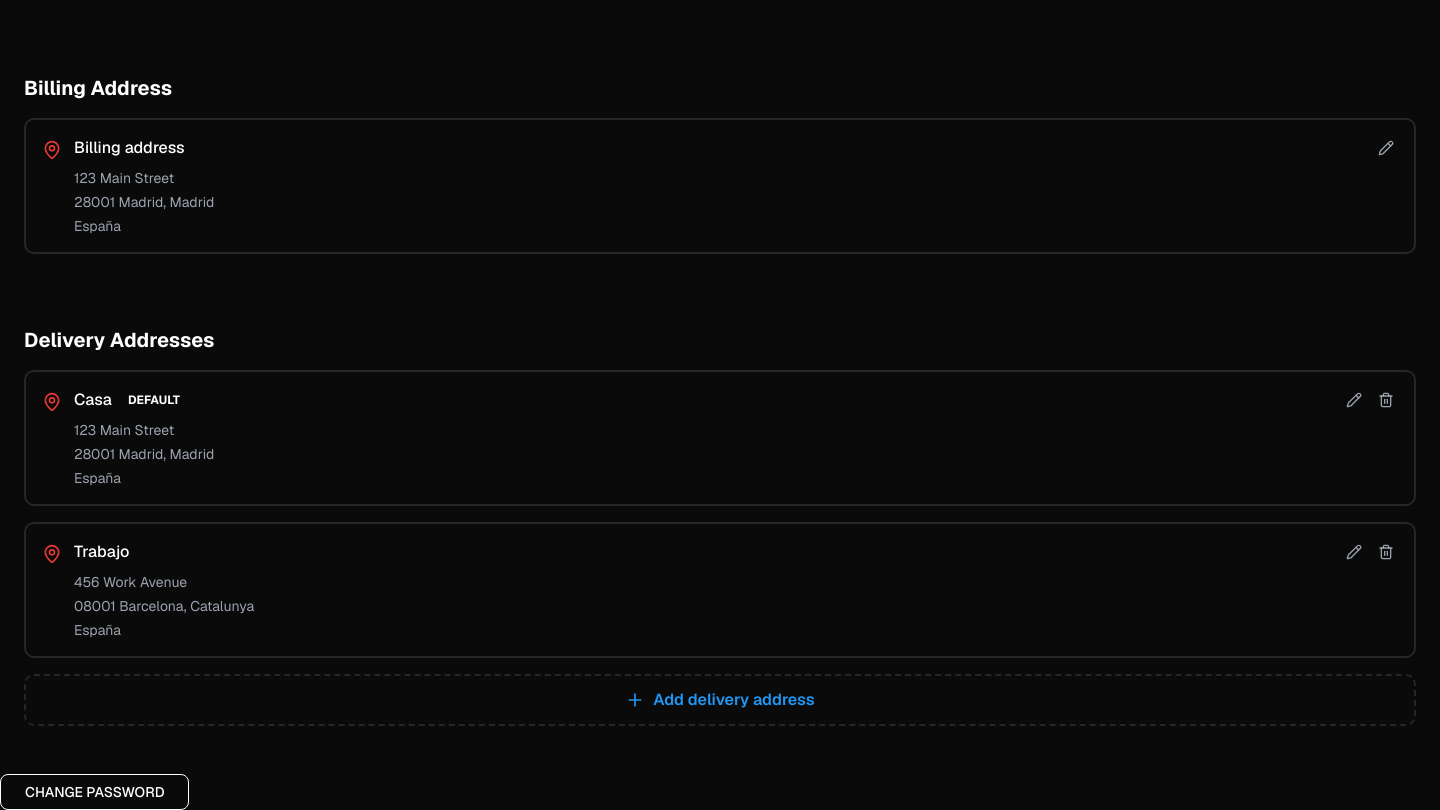
Scenario: ProfileContent › modal interactions › opens delivery address modal when add button is clicked
(page scrolled)
Expected: the text "Casa" is shown, [74, 388, 112, 412]
Click the button "Add delivery address" at (720, 700), box [24, 674, 1416, 726]
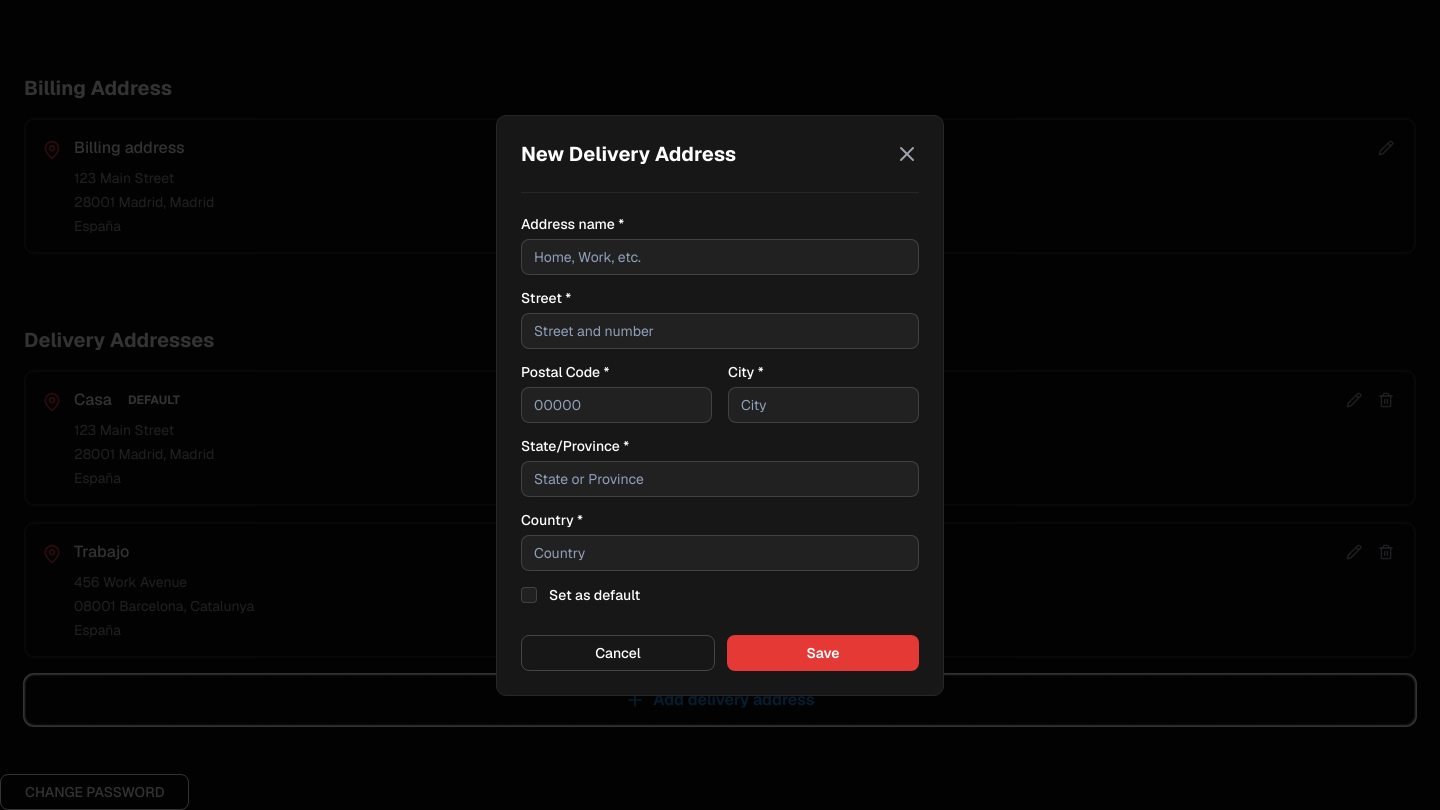
Now the heading "New Delivery Address" is shown, box [521, 140, 736, 168]
